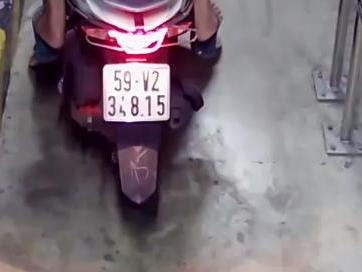num_plate: (103, 63, 170, 120)
